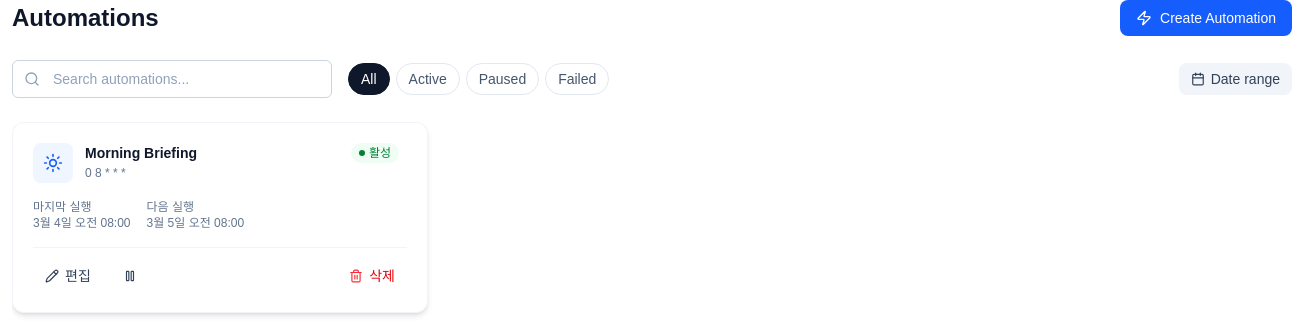
Test: Automation Toggle — TC-3012, TC-3013 › optimistic UI: status badge updates to '일시정지' immediately after click (before API resolves)
The width and height of the screenshot is (1304, 334).
// Click and immediately check (before 500ms fetch resolves)
What coordinates should you click on to do the following:
click the button named "morning briefing 일시정지"
I would click on:
 (130, 276)
Its box is x1=111 y1=260 x2=149 y2=292.
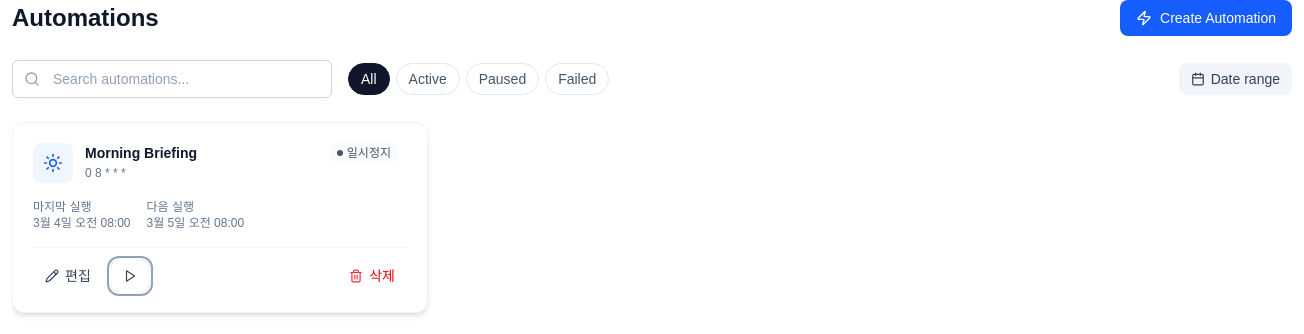
Expected: the text "일시정지" is shown, x1=329 y1=143 x2=399 y2=163
